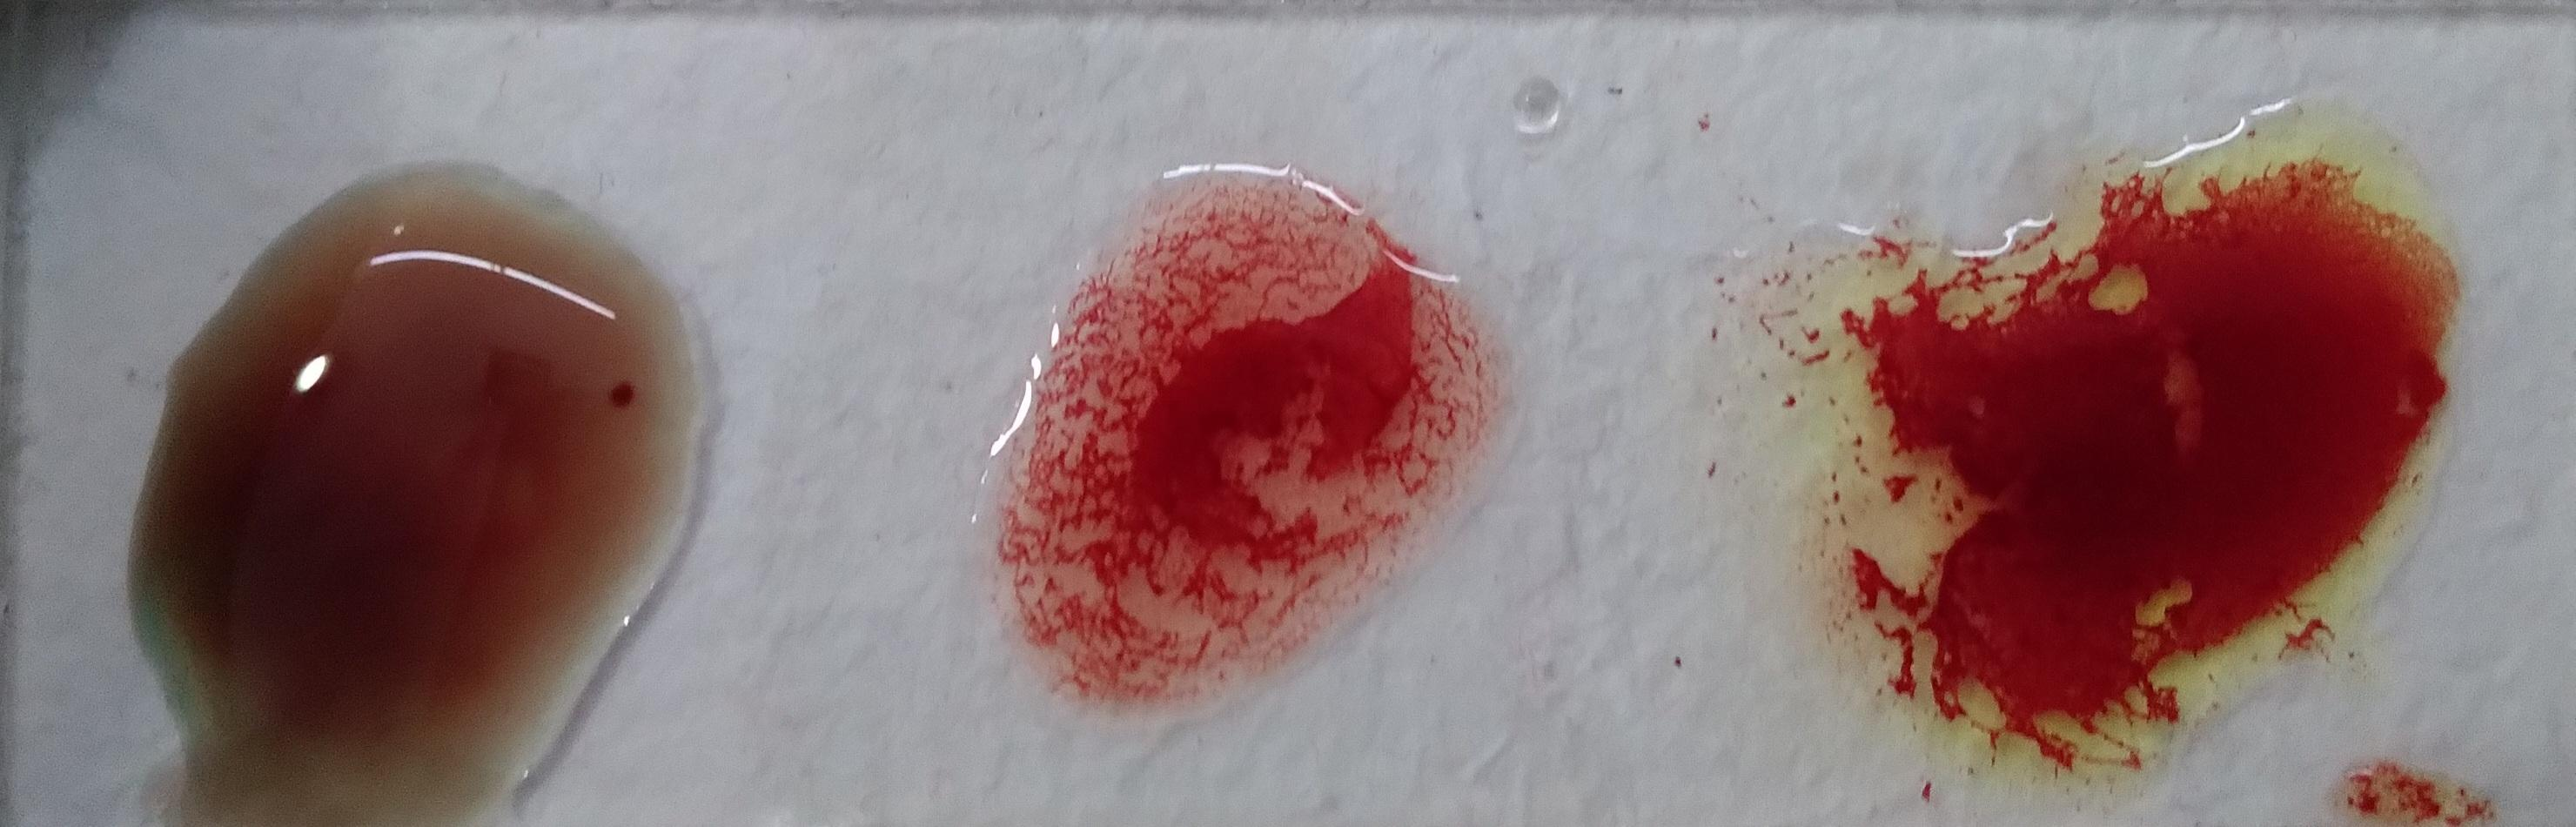B: (108, 67, 784, 686)
D: (1122, 127, 1592, 664)
